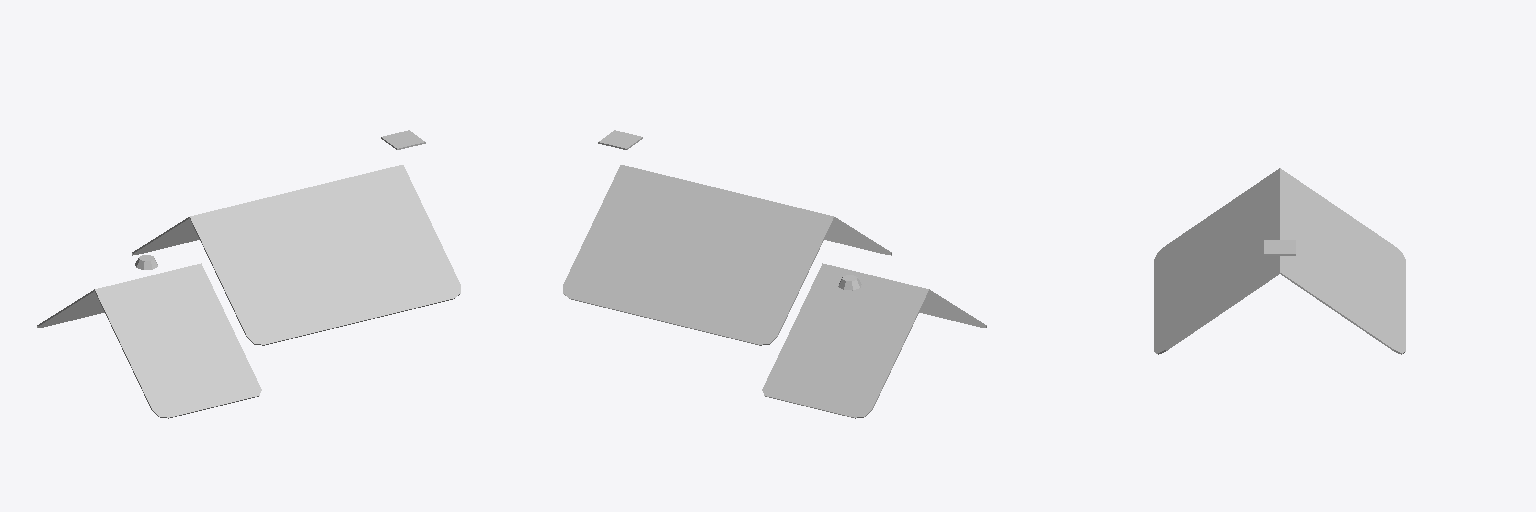
File: building-type-j_roof.obj
3 views of the same model, side by side, from view 1: azimuth 30°, elevation 25°; view 2: azimuth 150°, elevation 25°; view 3: azimuth 270°, elevation 25° (orthographic).
Parts seen in each view (by area): view 1: building-type-j.001; view 2: building-type-j.001; view 3: building-type-j.001.
Part boxes in pixels (x1,y1,x2,y2): building-type-j.001: (37,130,460,418); building-type-j.001: (563,130,986,418); building-type-j.001: (1154,168,1405,354).
Bounding box in the file's own units: 1.36 × 0.6483 × 0.916.